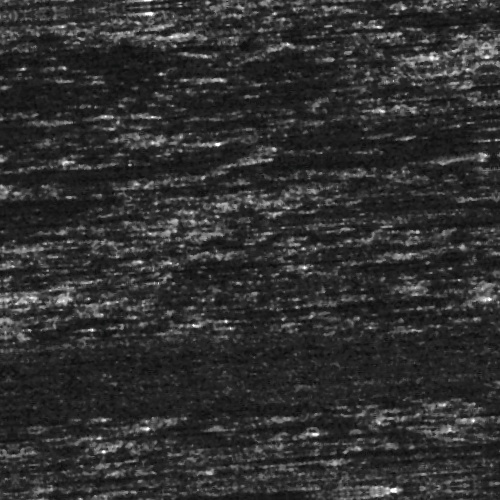object: (295, 255, 482, 270), (353, 61, 478, 74), (412, 163, 495, 172), (424, 308, 500, 315), (293, 491, 366, 498), (129, 0, 182, 9), (238, 153, 291, 162), (173, 70, 236, 77), (0, 135, 39, 144), (173, 464, 204, 469), (53, 145, 64, 150)
shadow: (0, 61, 416, 74), (152, 255, 388, 270), (14, 153, 264, 162), (22, 491, 330, 498), (339, 156, 500, 167), (353, 454, 500, 465), (0, 70, 204, 77), (295, 163, 453, 172), (0, 0, 155, 9), (301, 466, 500, 471), (392, 308, 470, 315), (108, 464, 188, 469), (0, 145, 59, 150)
